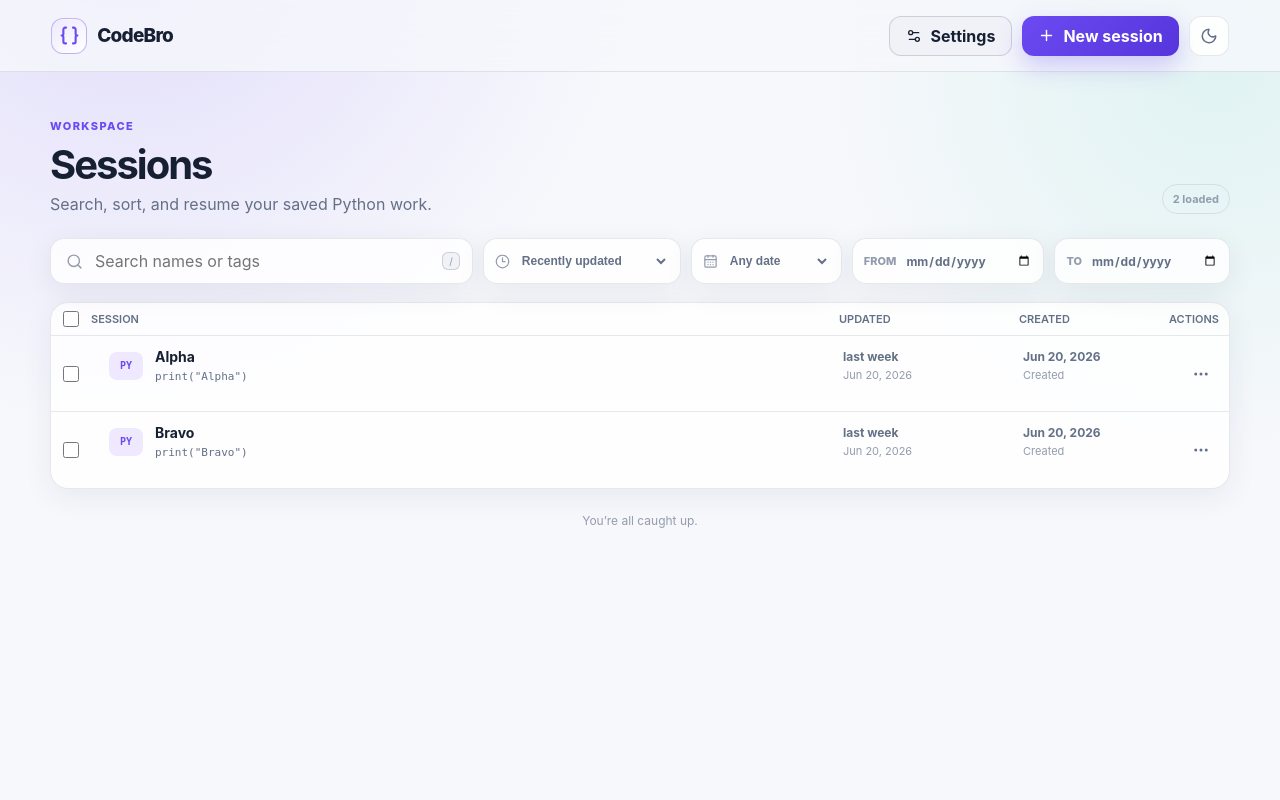
SessionLibrary data operations › keeps failed bulk deletions visible and selected
Check: the text "Alpha" is shown, box [155, 348, 195, 365]
Click the checkbox named "Select all sessions" at {"x": 71, "y": 319}, box [63, 311, 79, 327]
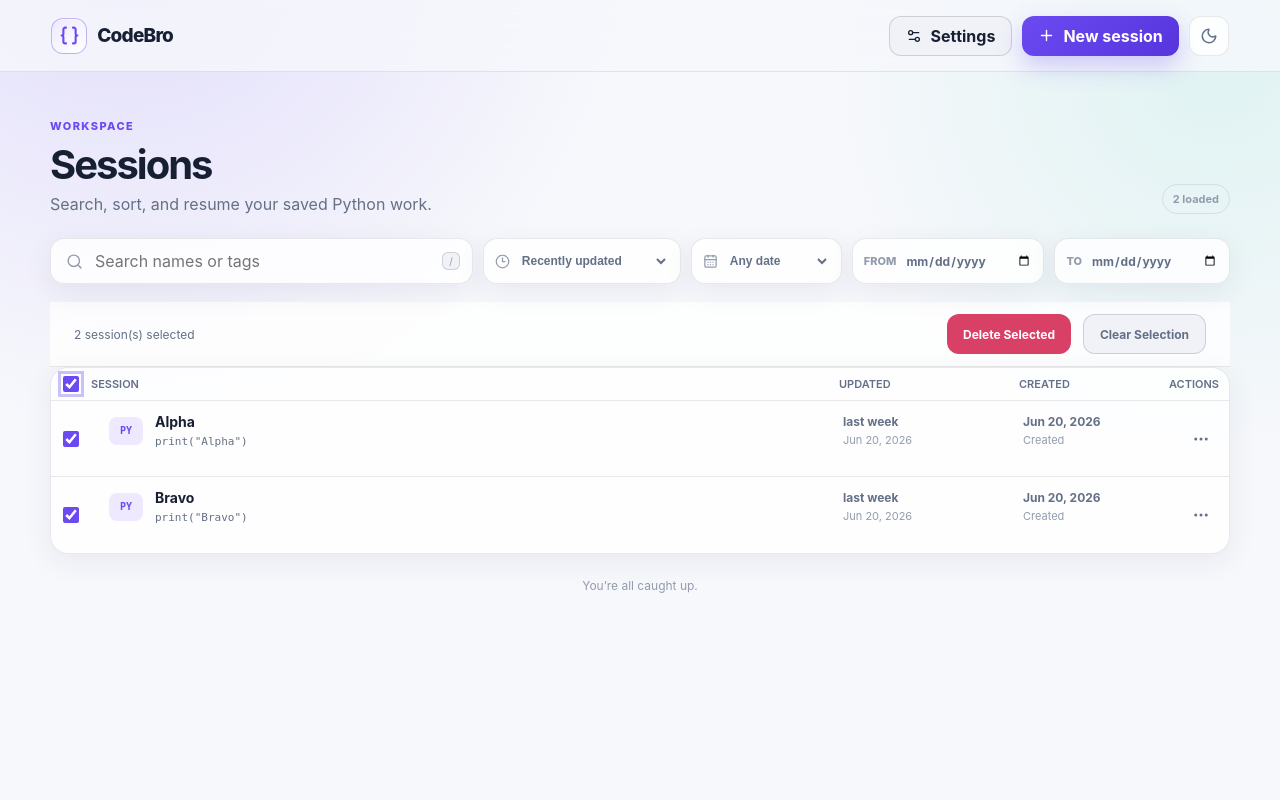
Click the button "Delete Selected" at {"x": 1009, "y": 334}, box [947, 314, 1071, 354]
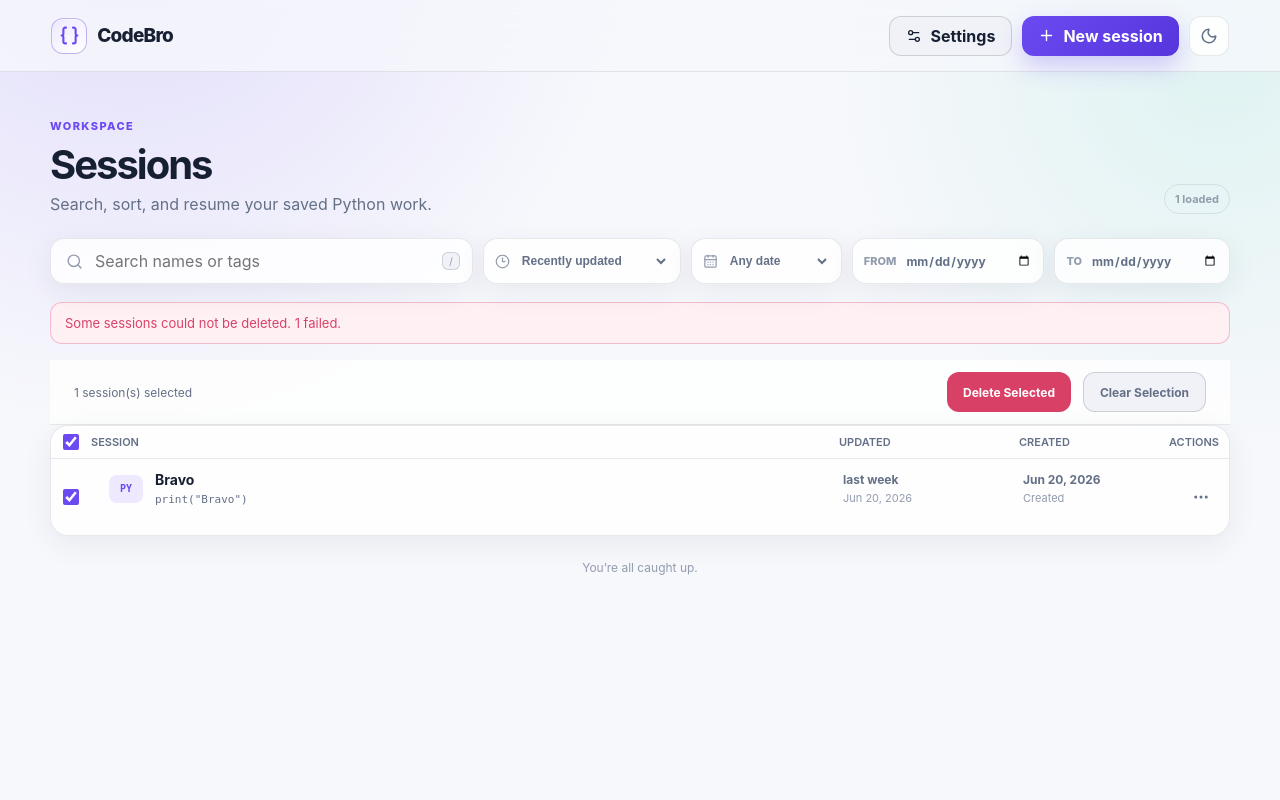
Check: the checkbox named "Select session Bravo" is checked, box [63, 489, 79, 505]
Check: the button "Alpha" is gone
Check: the text "Some sessions could not be deleted. 1 failed." is shown, box [50, 302, 1230, 344]
